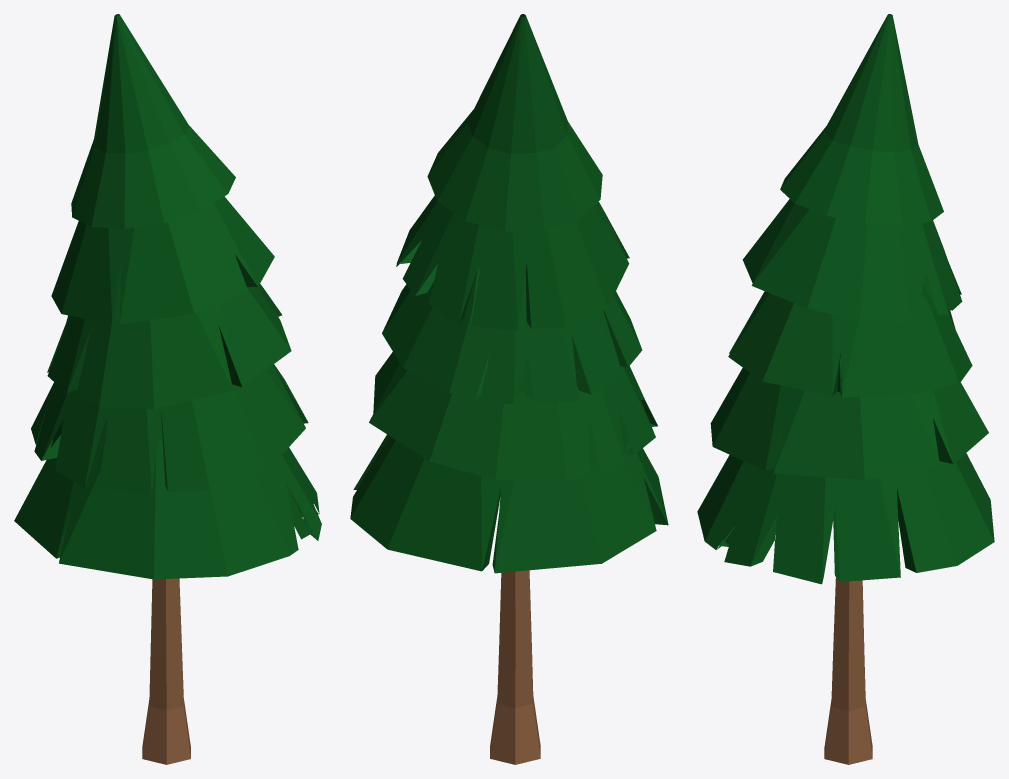
File: tree-summer-complete-42-020.glb
3 renders of one model, left to right at view 1: azimuth 30°, elevation 25°; view 2: azimuth 150°, elevation 25°; view 3: azimuth 270°, elevation 25°, orthographic. The views are drawn at different scales.
Visible parts, largest first — view 1: Tree 42_79; view 2: Tree 42_79; view 3: Tree 42_79.
Boxes of the visible parts, bbox=[...] form: Tree 42_79: bbox=[14, 14, 321, 764]; Tree 42_79: bbox=[350, 14, 668, 764]; Tree 42_79: bbox=[697, 14, 994, 764].
Size of the model in its own units: 0.8423 by 2.2 by 0.8185.
